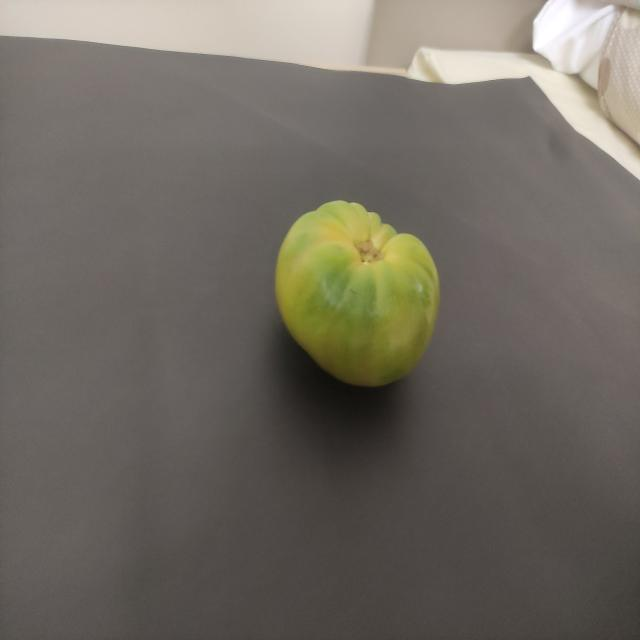yesil: (257, 185, 463, 408)
